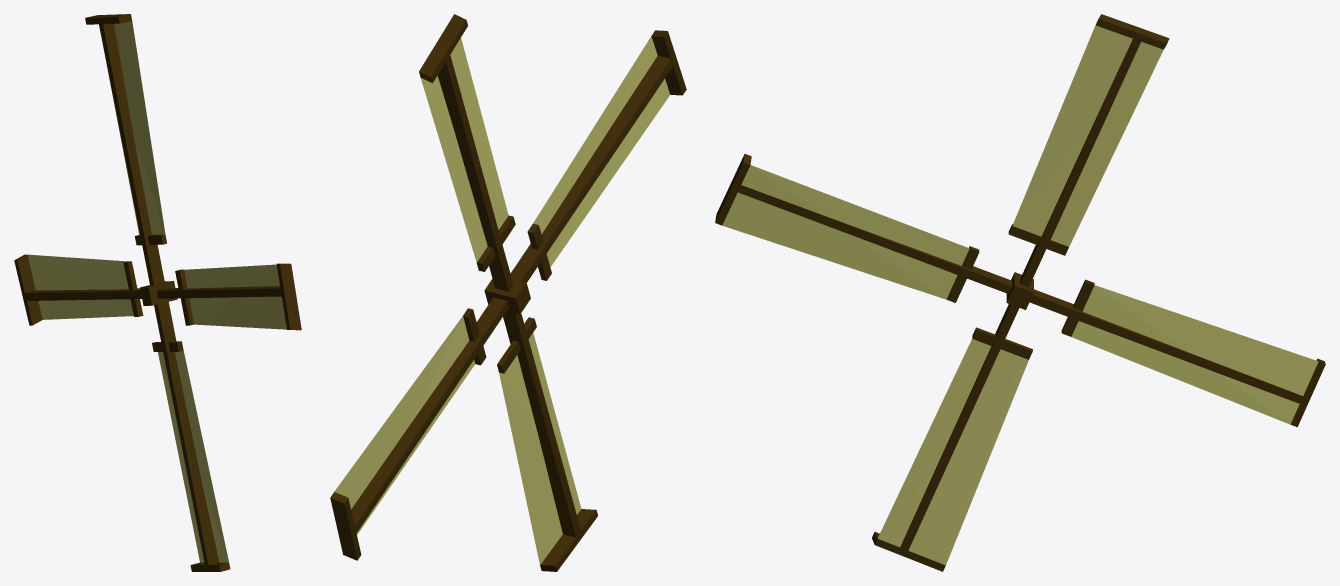
The model's file is mill_sails0015.obj.
The picture shows the model from 3 angles, left to right: view 1: azimuth 30°, elevation 25°; view 2: azimuth 150°, elevation 25°; view 3: azimuth 270°, elevation 25°; orthographic projection. The views are drawn at different scales.
Visible parts, largest first — view 1: Sails; view 2: Sails; view 3: Sails.
Boxes of the visible parts, x1,y1,x2,y2 form: Sails: (14, 14, 301, 571); Sails: (330, 14, 686, 571); Sails: (715, 14, 1325, 571).
Size of the model in its own units: 0.5135 by 9.68 by 9.69.
